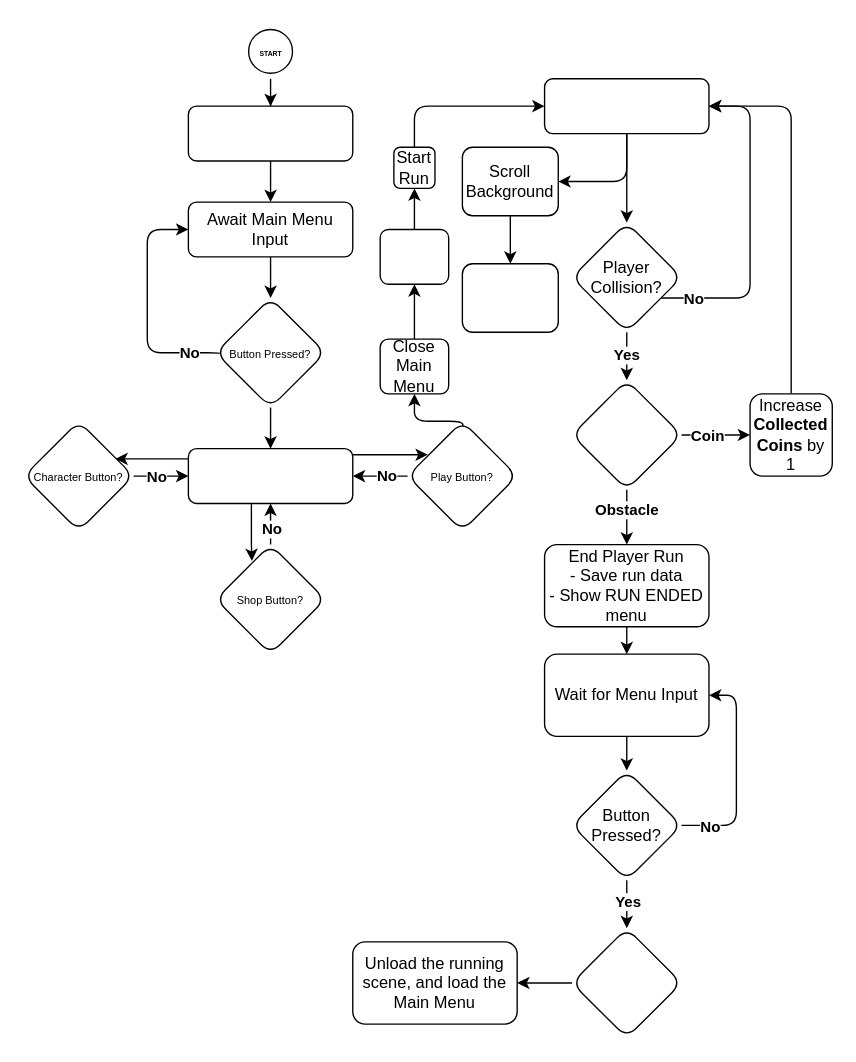
Some shapes in this 856 by 1062 pixel diagram are drawn without their labels. The shapes that lost their labels are listed below. From the top down, each one's centre as x and y in pixels, then its label:
(626,105): Player Running
(270,133): Open Main Menu
(414,256): Spawn Player
(509,297): Precedurally Generate Map
(626,434): Check Collision Tag
(270,475): Check What Button Was Pressed
(626,982): What button was pressed
